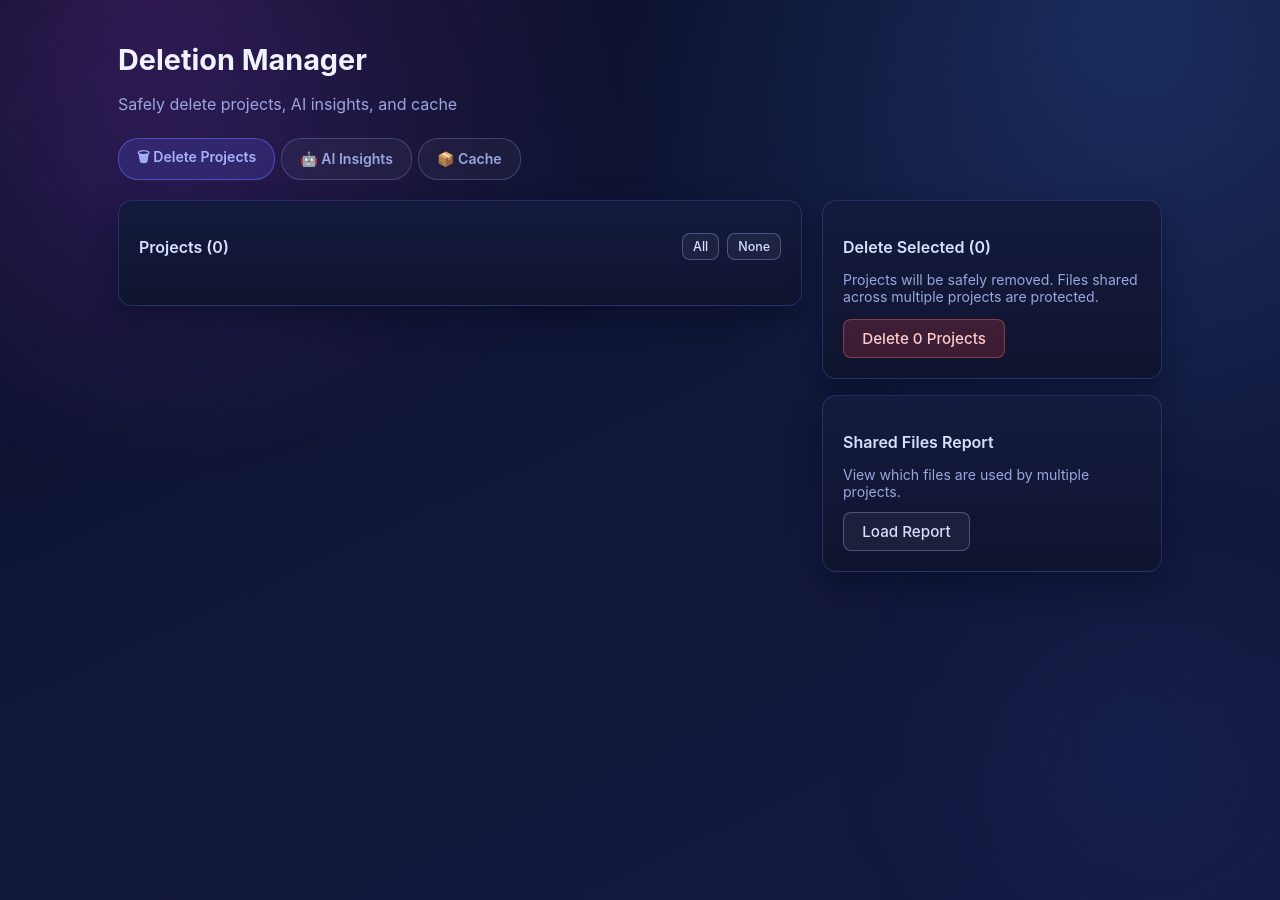
Scenario: Deletion - AI Insights tab › switches to AI Insights tab
Click the button "🤖 AI Insights" at (347, 159), box [281, 138, 412, 180]
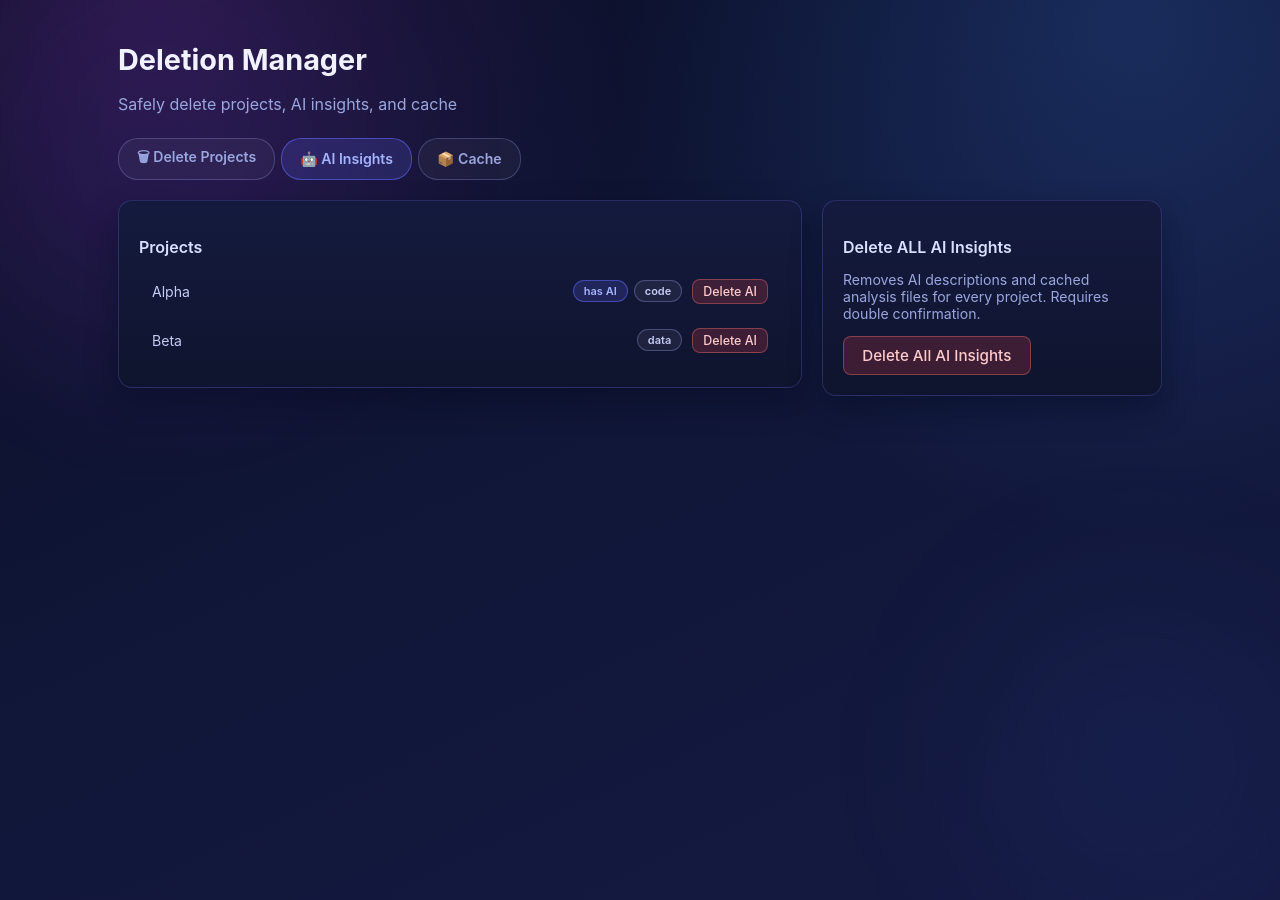
Result: the button "Delete All AI Insights" is shown at [843, 336, 1031, 375]
